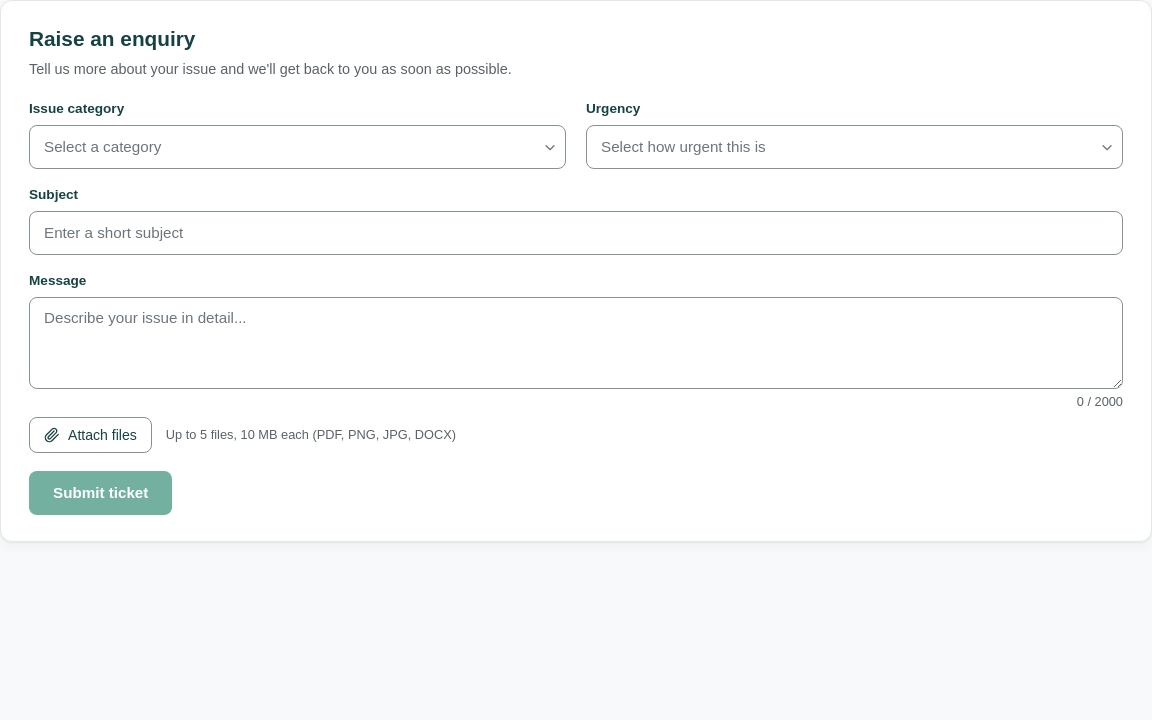
it: TicketForm priority › will not submit until an urgency is chosen
Press the mouse on the element with id "ticket-category" at (298, 147), box [29,125,566,169]
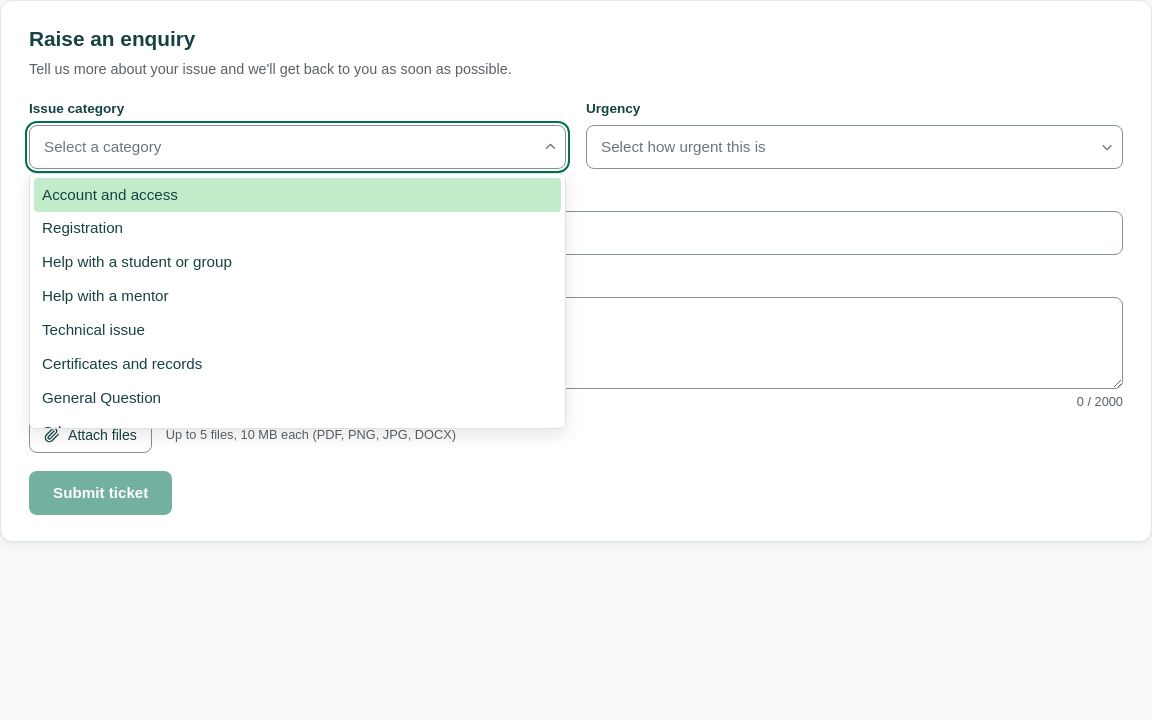
Press the mouse on the option "Account and access" at (110, 194), box [34,178,561,212]
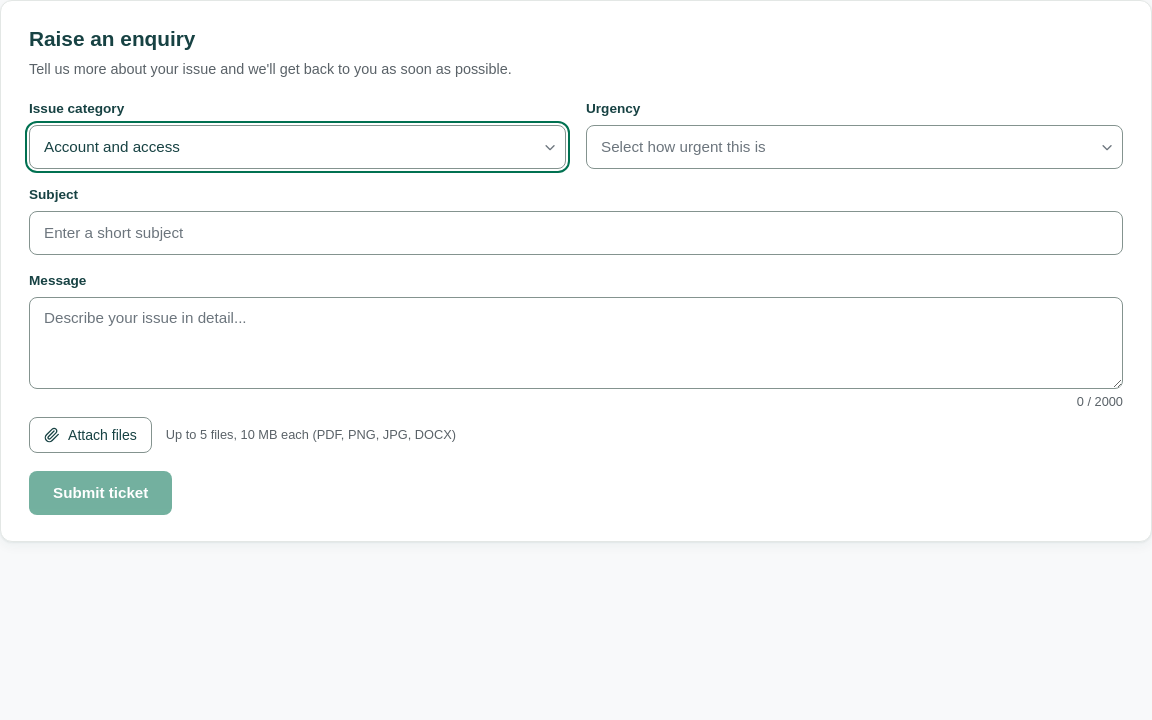
Type "Cannot sign in" into the field with placeholder "Enter a short subject" at (576, 233), box [29,211,1123,255]
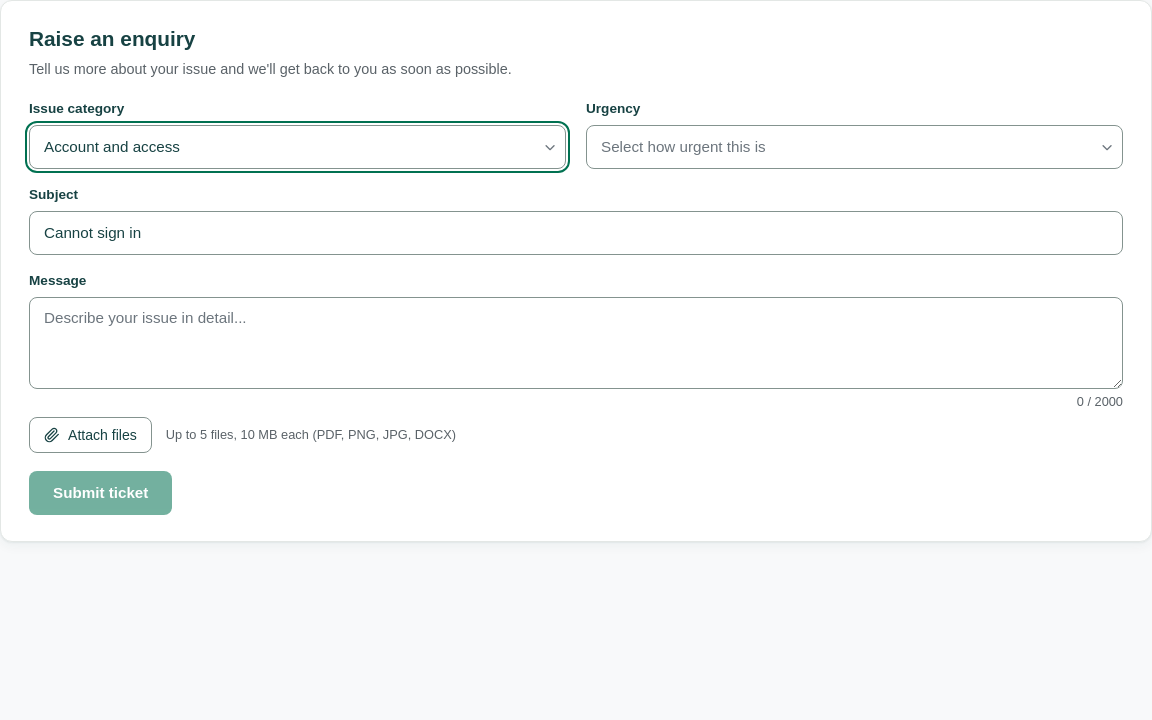
Type "It rejects my password." into the text box labelled "Message 0 / 2000" at (576, 343), box [29,297,1123,389]
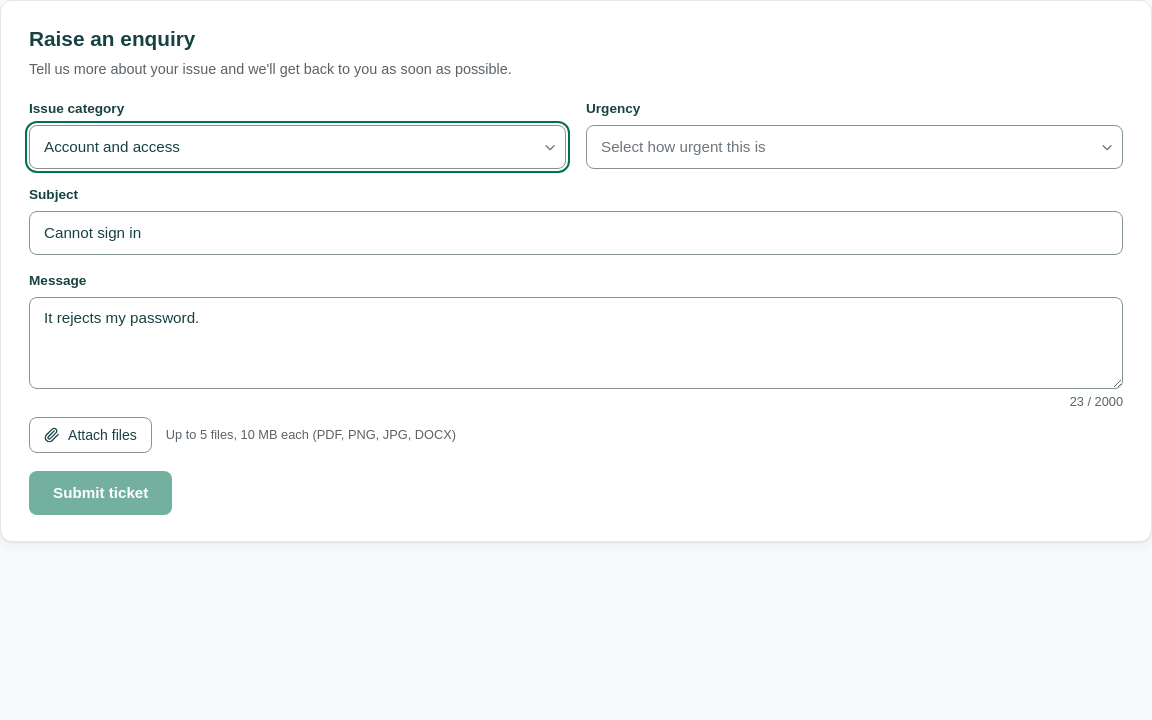
expect the submit button is disabled: met, box [29,471,172,515]
Submit the form
Press the mouse on the element with id "ticket-urgency" at (854, 147), box [586,125,1123,169]
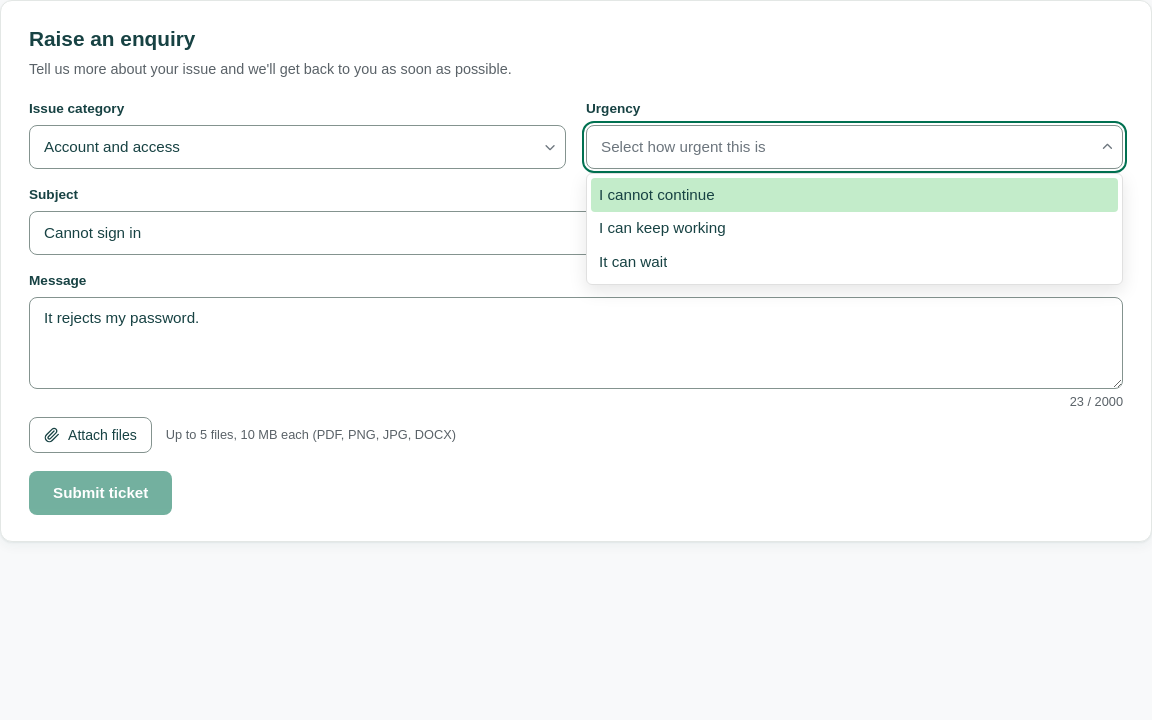
Press the mouse on the option "It can wait" at (633, 262), box [599,253,667,270]
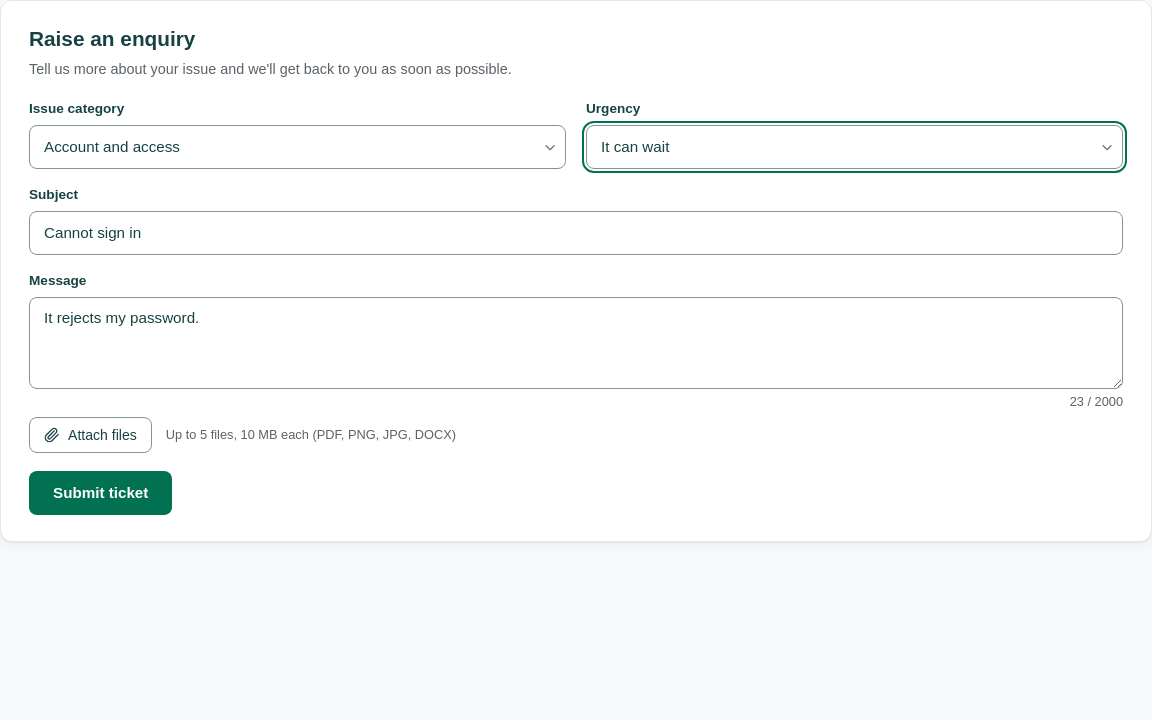
expect the submit button is enabled: met, box [29,471,172,515]
